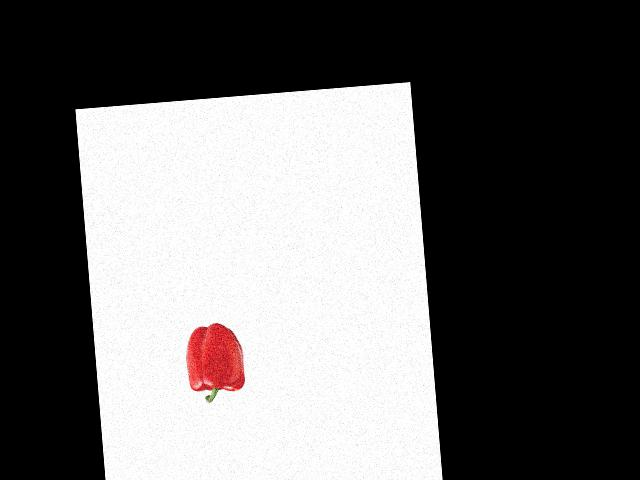bell_pepper: (180, 318, 250, 404)
